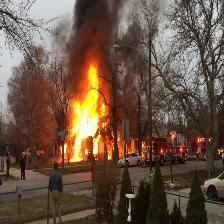fire: (76, 75, 107, 155)
smoke: (79, 0, 109, 53)
